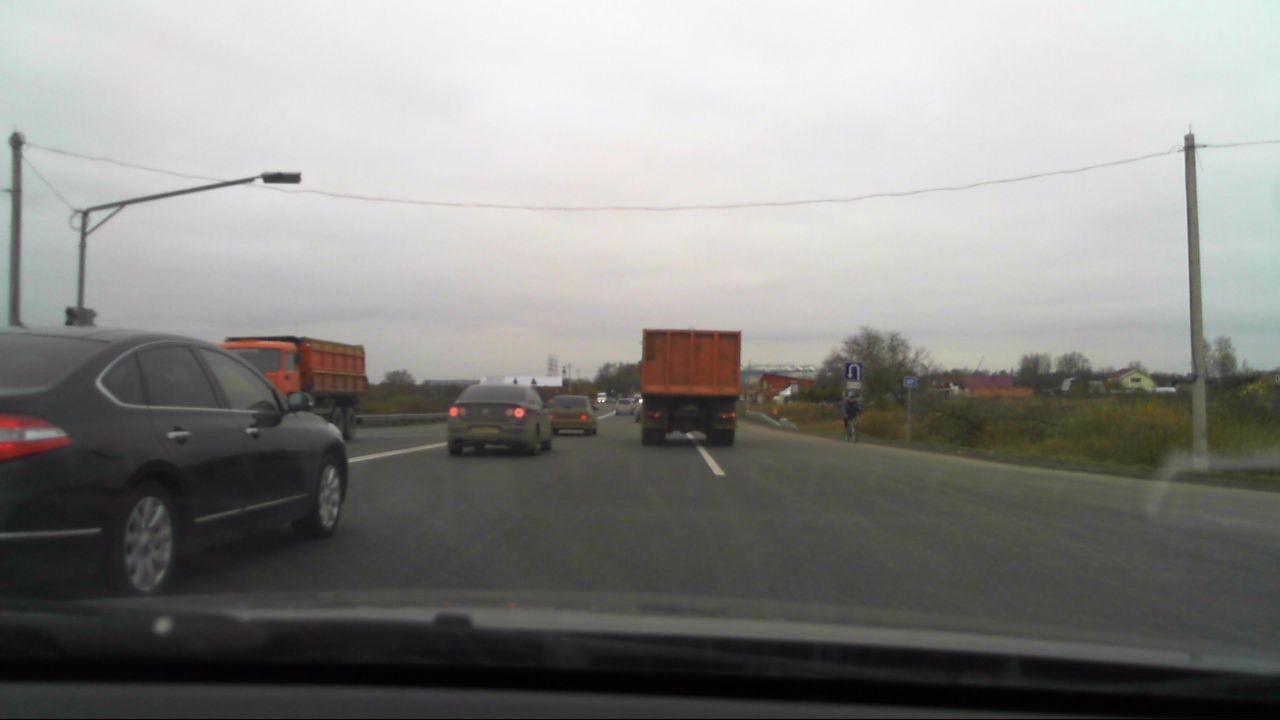U-turn: (845, 362, 862, 381)
